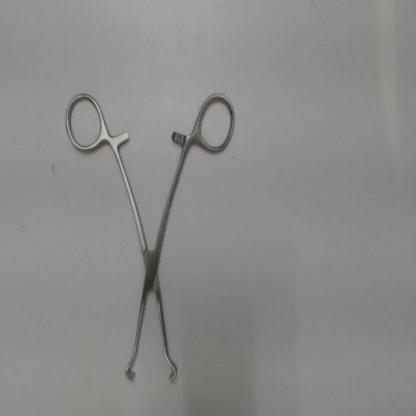Babcock Tissue Forceps: (60, 88, 240, 388)
